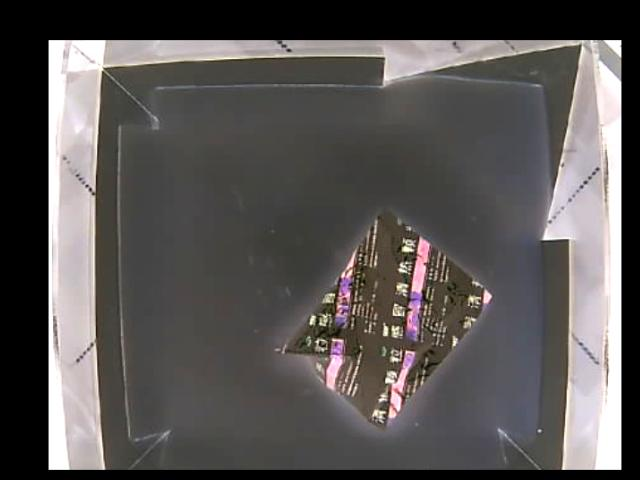Medicine: (270, 206, 492, 429)
